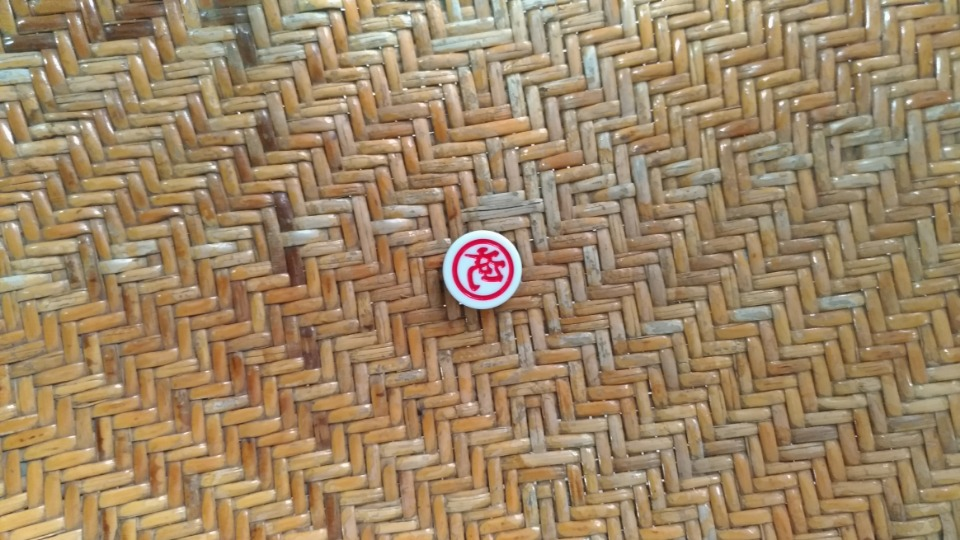r-cannon: (426, 217, 543, 329)
